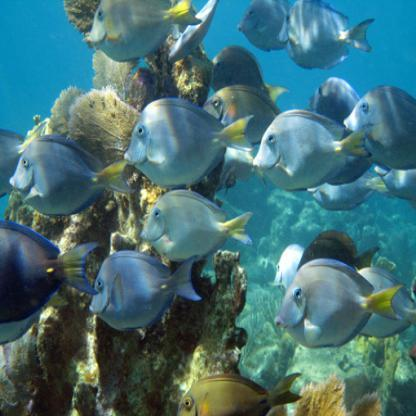Bio: (268, 254, 405, 351), (123, 92, 259, 184), (5, 130, 136, 215), (83, 244, 203, 332), (251, 108, 375, 192), (138, 189, 250, 261), (83, 0, 194, 70), (334, 75, 415, 170), (278, 0, 374, 72)
